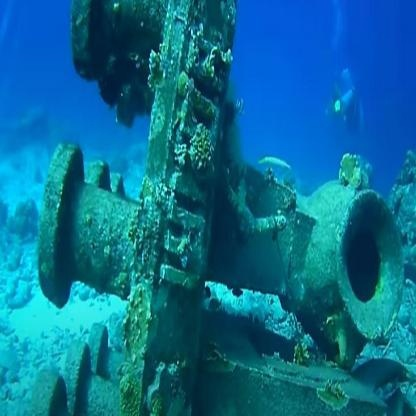metal: (62, 42, 392, 378)
